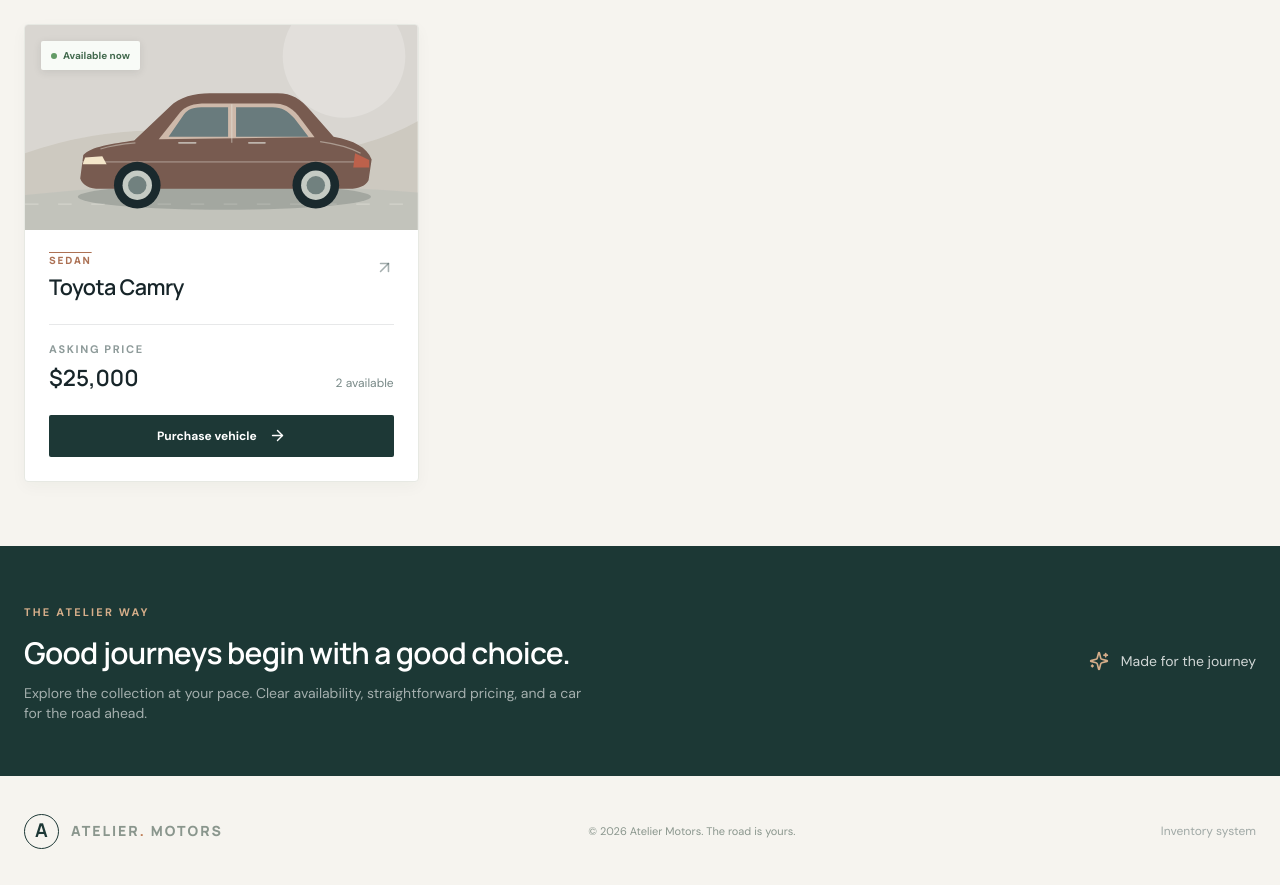
Scenario: inventory SPA › purchases and refreshes the displayed quantity
(page scrolled)
Click the button "Purchase vehicle". click: (221, 436)
box: top-left (49, 415), bottom-right (394, 457)
(page scrolled)
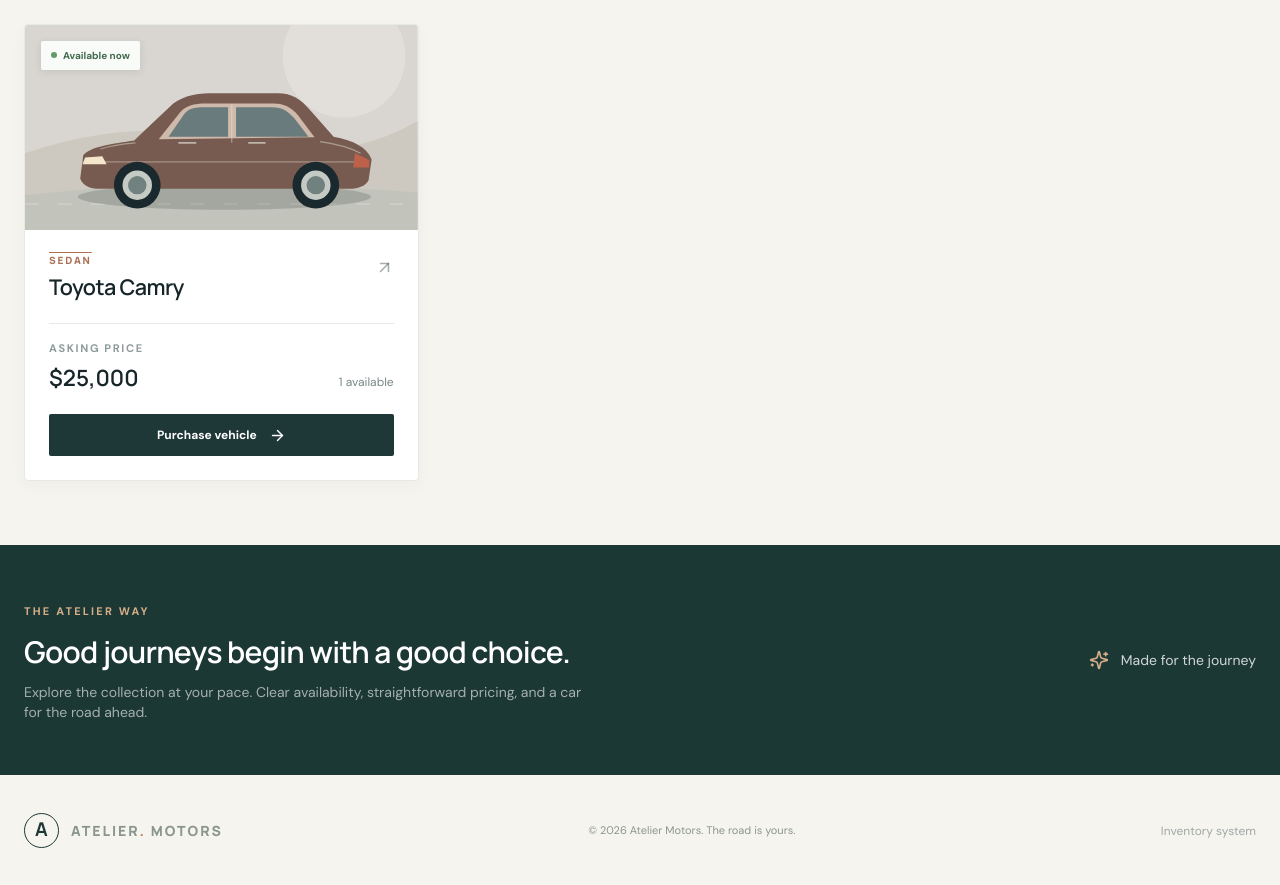
Now the text "1 available" is shown, box top-left (339, 374), bottom-right (394, 394)
